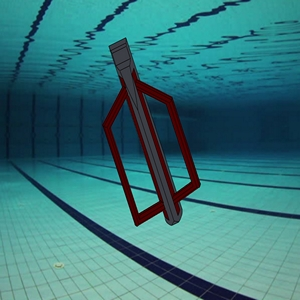submarine: (77, 31, 220, 239)
